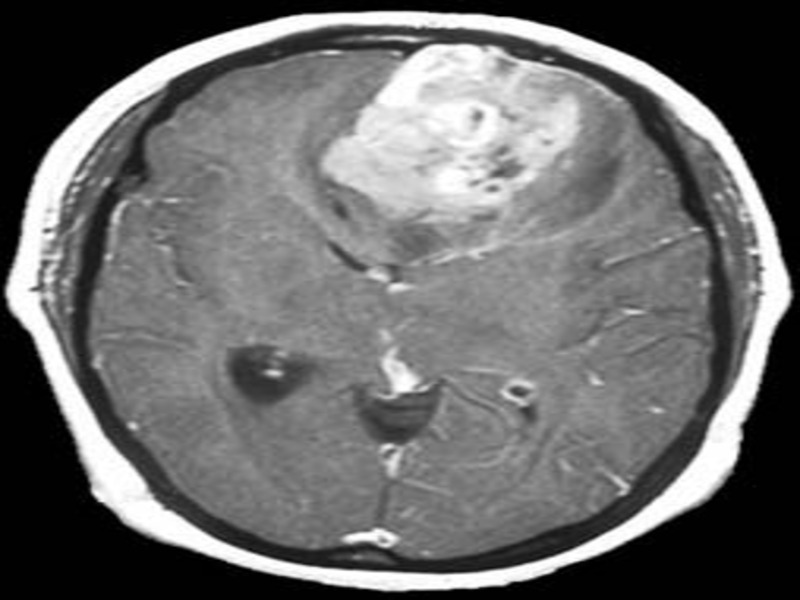tumor: (313, 40, 587, 226)
